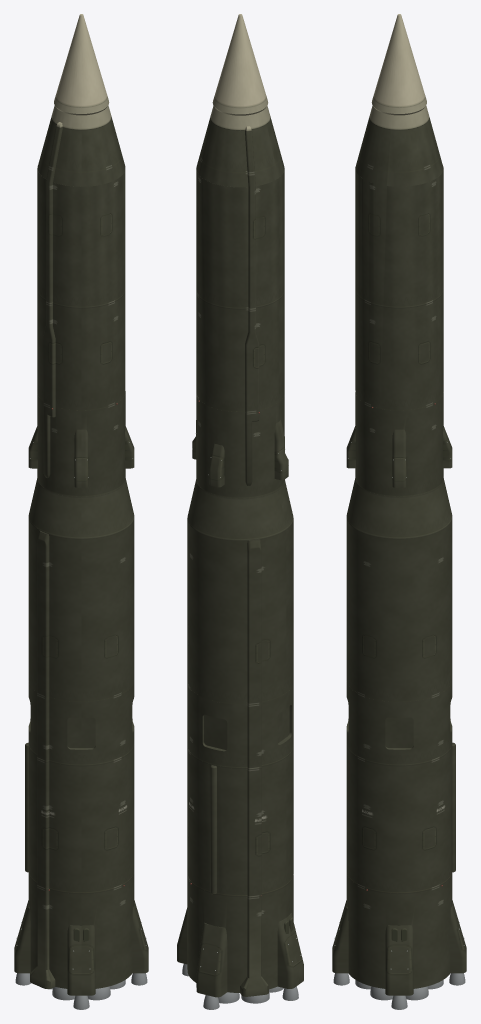
3 renders of one model, left to right at view 1: azimuth 90°, elevation 25°; view 2: azimuth 150°, elevation 25°; view 3: azimuth 270°, elevation 25°, orthographic.
Parts seen in each view (by area): view 1: R16 stage 2 pr2, R16 stage 1 pr4, R16 stage 1 pr2, R16 stage 1 pr1, R16 stage 2 pr1, R16 stage 1 pr3, R16 stage 1 adapter, R16 stage 2 pr3 light, Наружные детали · референсы владельца; view 2: R16 stage 2 pr2, R16 stage 1 pr4, R16 stage 1 pr2, R16 stage 1 pr1, R16 stage 2 pr1, R16 stage 1 pr3, R16 stage 1 adapter, R16 stage 2 pr3 light, Наружные детали · референсы владельца; view 3: R16 stage 2 pr2, R16 stage 1 pr4, R16 stage 1 pr2, R16 stage 1 pr1, R16 stage 2 pr1, R16 stage 1 pr3, R16 stage 1 adapter, R16 stage 2 pr3 light, Наружные детали · референсы владельца.
Boxes of the visible parts, x1,y1,x2,y2 form: R16 stage 2 pr2: (37, 105, 125, 410); R16 stage 1 pr4: (28, 519, 134, 701); R16 stage 1 pr2: (25, 742, 134, 893); R16 stage 1 pr1: (14, 873, 148, 995); R16 stage 2 pr1: (28, 391, 134, 496); R16 stage 1 pr3: (28, 681, 134, 765); R16 stage 1 adapter: (28, 478, 134, 538); R16 stage 2 pr3 light: (54, 14, 109, 115); Наружные детали · референсы владельца: (15, 403, 147, 1009); R16 stage 2 pr2: (196, 105, 284, 413); R16 stage 1 pr4: (187, 519, 293, 705); R16 stage 1 pr2: (187, 746, 293, 897); R16 stage 1 pr1: (177, 874, 303, 997); R16 stage 2 pr1: (192, 395, 288, 498); R16 stage 1 pr3: (187, 683, 293, 769); R16 stage 1 adapter: (187, 479, 293, 540); R16 stage 2 pr3 light: (212, 14, 268, 115); Наружные детали · референсы владельца: (179, 400, 301, 1009); R16 stage 2 pr2: (355, 105, 443, 410); R16 stage 1 pr4: (346, 519, 452, 701); R16 stage 1 pr2: (346, 742, 455, 893); R16 stage 1 pr1: (332, 873, 466, 995); R16 stage 2 pr1: (346, 392, 452, 496); R16 stage 1 pr3: (346, 681, 452, 765); R16 stage 1 adapter: (346, 478, 452, 538); R16 stage 2 pr3 light: (371, 14, 426, 115); Наружные детали · референсы владельца: (333, 403, 465, 1009).
Size of the model in its own units: 3.8 by 30.3 by 3.8.
8 materials, 1 textured.
